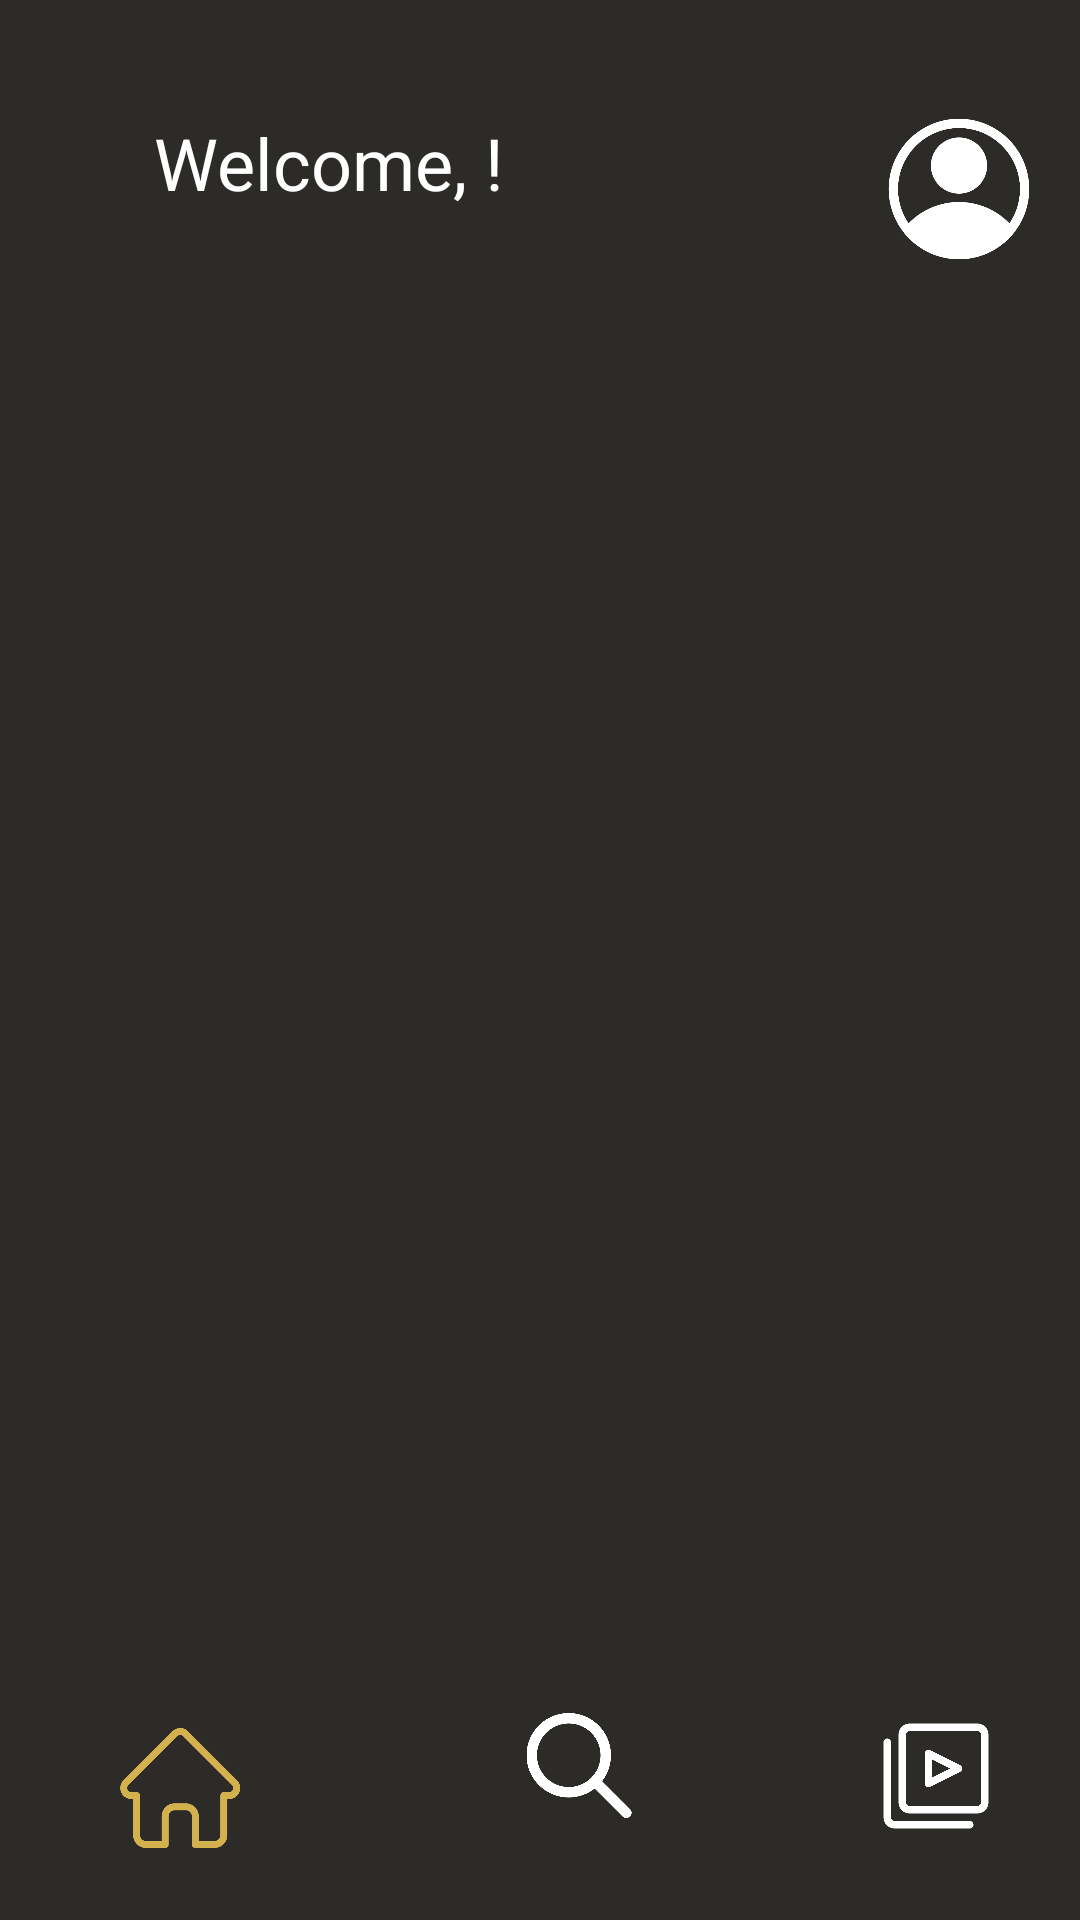

Locate icon controls on the screen. Image size 1080w x 1920h, boxes as (x1,y1,x2,y2).
account: (888,119,1029,259)
home gold: (120,1728,240,1848)
library: (883,1723,989,1829)
search: (527,1713,632,1818)
